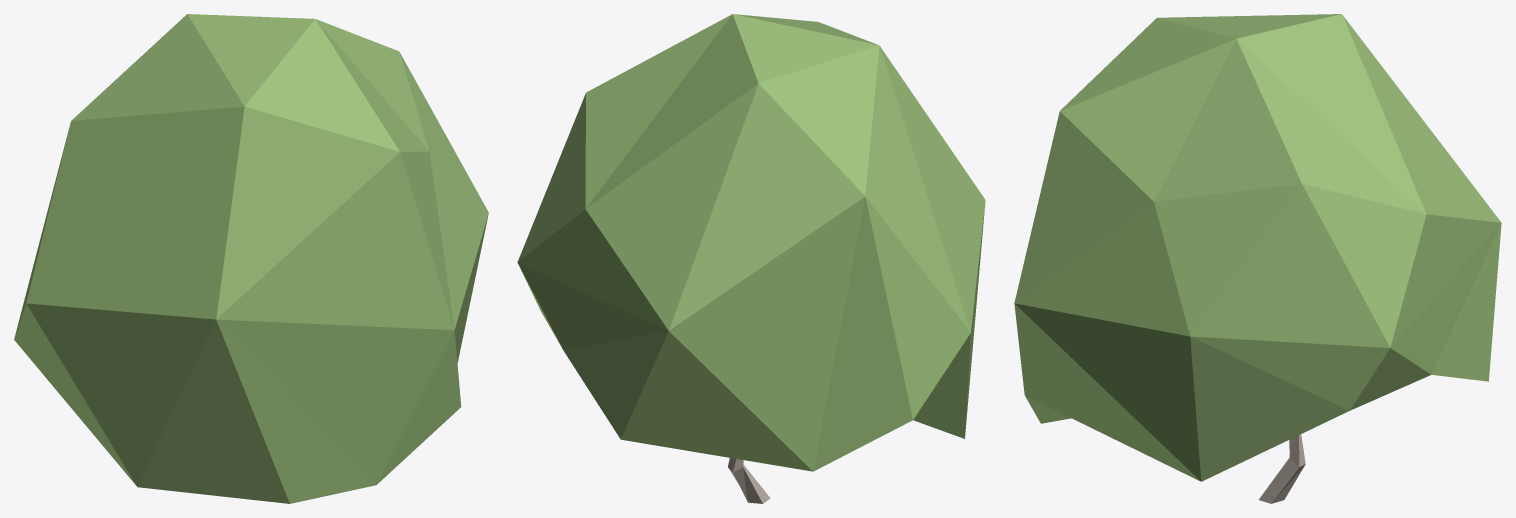
The model's file is QuercusAlba.glb.
3 views of the same model, side by side, from view 1: azimuth 30°, elevation 25°; view 2: azimuth 150°, elevation 25°; view 3: azimuth 270°, elevation 25° (orthographic). The views are drawn at different scales.
Parts seen in each view (by area): view 1: Crown; view 2: Crown, Trunk; view 3: Crown, Trunk.
Boxes of the visible parts, x1=… form: Crown: x1=14, y1=14, x2=488, y2=503; Crown: x1=517, y1=14, x2=985, y2=471; Trunk: x1=728, y1=458, x2=770, y2=503; Crown: x1=1014, y1=14, x2=1501, y2=481; Trunk: x1=1259, y1=434, x2=1305, y2=503.
Bounding box in the file's own units: 25.48 × 27.25 × 25.03.
